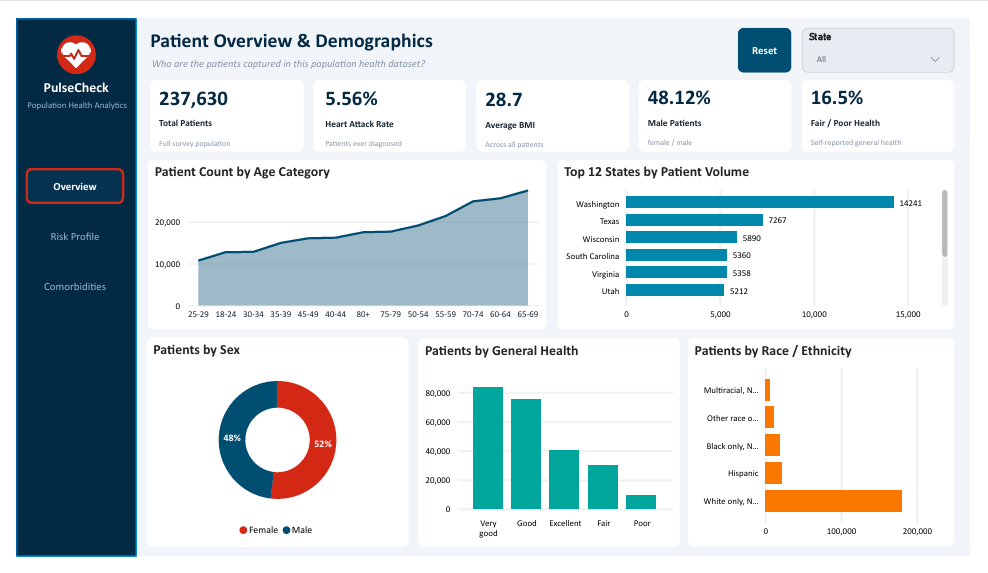

The dashboard page shown, as its layout file describes it:
{"tool":"powerbi","page":{"name":"Overview","canvas":[1280,720],"ordinal":0},"visuals":[{"type":"shape","box":[0,0,159.6,720],"z":0,"group":"g3"},{"type":"textbox","box":[174.2,7.7,843.3,43],"z":0},{"type":"group","id":"g1","title":"Group 1","box":[53.3,21.6,51.8,51.8],"z":0,"group":"g2"},{"type":"shape","box":[53.3,21.6,51.8,51.8],"z":0,"group":"g1"},{"type":"shape","box":[178.6,82.1,205.9,96.5],"z":0,"group":"g4"},{"type":"multiRowCard","fields":{"Values":["_Measures.Male_Patients"]},"box":[842.4,82.1,188.6,44.3],"z":0,"group":"g8"},{"type":"multiRowCard","fields":{"Values":["_Measures.Fair_Poor_Health"]},"box":[1061.3,82.1,188.6,44.3],"z":0,"group":"g9"},{"type":"multiRowCard","fields":{"Values":["_Measures.Total_Patients"]},"box":[185.8,82.9,188.6,44.3],"z":0,"group":"g5"},{"type":"multiRowCard","fields":{"Values":["_Measures.Heart_Attack_Rate"]},"box":[409,84.4,188.6,44.3],"z":0,"group":"g6"},{"type":"multiRowCard","fields":{"Values":["_Measures.Average_BMI"]},"box":[623.5,85,188.6,44.3],"z":0,"group":"g7"},{"type":"group","id":"g2","title":"Group 2","box":[11.5,21.6,135.4,86.4],"z":1000,"group":"g3"},{"type":"image","box":[59.1,28.8,38.9,38.9],"z":1000,"group":"g1"},{"type":"textbox","box":[175.8,44.7,844.9,28.6],"z":1000},{"type":"textbox","box":[11.5,74.9,135.4,33.1],"z":1000,"group":"g2"},{"type":"shape","box":[398.2,82.3,204.9,95.7],"z":1000,"group":"g10"},{"type":"textbox","box":[842.4,124.2,188.6,27.1],"z":1000,"group":"g8"},{"type":"textbox","box":[1061.3,124.2,188.6,27.1],"z":1000,"group":"g9"},{"type":"textbox","box":[185.8,125,188.6,27.1],"z":1000,"group":"g5"},{"type":"textbox","box":[409,126.5,188.6,27.1],"z":1000,"group":"g6"},{"type":"textbox","box":[623.5,127.1,188.6,27.1],"z":1000,"group":"g7"},{"type":"group","id":"g3","title":"Group 3","box":[0,0,159.6,720],"z":2000},{"type":"shape","box":[616.8,82.3,204.9,95.7],"z":2000,"group":"g11"},{"type":"textbox","box":[842.4,150,188.6,27.1],"z":2000,"group":"g8"},{"type":"textbox","box":[1061.3,150,188.6,27.1],"z":2000,"group":"g9"},{"type":"textbox","box":[185.8,150.8,188.6,27.1],"z":2000,"group":"g5"},{"type":"textbox","box":[409,152.3,188.6,27.1],"z":2000,"group":"g6"},{"type":"textbox","box":[623.5,152.9,188.6,27.1],"z":2000,"group":"g7"},{"type":"actionButton","box":[11.5,200.2,132.5,47.5],"z":2000,"group":"g3"},{"type":"shape","box":[835.4,82.3,204.9,95.7],"z":3000,"group":"g12"},{"type":"textbox","box":[9,100,148,27],"z":3000},{"type":"actionButton","box":[11.5,267.4,132.5,47.5],"z":3000,"group":"g3"},{"type":"slicer","title":"State","fields":{"Values":["Sheet1.State"]},"box":[1054.1,11.5,204.5,60.5],"z":4000},{"type":"shape","box":[1054.1,82.1,204.5,96.5],"z":4000,"group":"g13"},{"type":"actionButton","box":[11.5,334.6,132.5,47.5],"z":4000,"group":"g3"},{"type":"actionButton","box":[967.7,11.5,72,60.5],"z":5000},{"type":"lineChart","title":"Patient Count by Age Category","fields":{"Y":["CountNonNull(Sheet1.PatientID)"],"Category":["Sheet1.Age Group Formatted"]},"box":[175.7,189.4,535.7,226.1],"z":6000},{"type":"clusteredBarChart","title":"Top 12 States by Patient Volume","fields":{"Category":["Sheet1.State"],"Y":["CountNonNull(Sheet1.PatientID)"]},"box":[725.8,189.4,532.8,226.1],"z":7000},{"type":"donutChart","title":"Patients by Sex","fields":{"Category":["Sheet1.Sex"],"Y":["CountNonNull(Sheet1.PatientID)"]},"box":[174.2,427,352,280.8],"z":8000},{"type":"columnChart","title":"Patients by General Health","fields":{"Category":["Sheet1.GeneralHealth"],"Y":["CountNonNull(Sheet1.PatientID)"]},"box":[538.6,427.7,351.4,280.8],"z":9000},{"type":"clusteredBarChart","title":"Patients by Race / Ethnicity","fields":{"Category":["Sheet1.RaceEthnicityCategory"],"Y":["CountNonNull(Sheet1.PatientID)"]},"box":[901.4,427.7,357.1,279.4],"z":10000},{"type":"group","id":"g4","title":"Group 5","box":[178.6,82.1,205.9,96.5],"z":11000},{"type":"group","id":"g5","title":"Group 4","box":[185.8,82.9,188.6,95],"z":11003,"group":"g4"},{"type":"group","id":"g6","title":"Group 4","box":[409,84.4,188.6,95],"z":11004,"group":"g10"},{"type":"group","id":"g7","title":"Group 4","box":[623.5,85,188.6,95],"z":11005,"group":"g11"},{"type":"group","id":"g8","title":"Group 4","box":[842.4,82.1,188.6,95],"z":11006,"group":"g12"},{"type":"group","id":"g9","title":"Group 4","box":[1061.3,82.1,188.6,95],"z":11007,"group":"g13"},{"type":"group","id":"g10","title":"Group 6","box":[398.2,82.3,204.9,97.2],"z":12000},{"type":"group","id":"g11","title":"Group 7","box":[616.8,82.3,204.9,97.7],"z":13000},{"type":"group","id":"g12","title":"Group 8","box":[835.4,82.1,204.9,96],"z":14000},{"type":"group","id":"g13","title":"Group 9","box":[1054.1,82.1,204.5,96.5],"z":15000}]}

Visuals, with their boxes on the page's 1280x720 design canvas (x1, y1, x2, y2). These are canvas units, not pixel positions in the 988x573 screenshot, which may show the page scaled, cropped or inside an application window:
shape: detection(0, 0, 160, 720)
textbox: detection(174, 8, 1018, 51)
"Group 1" group: detection(53, 22, 105, 73)
shape: detection(53, 22, 105, 73)
shape: detection(179, 82, 384, 179)
multiRowCard - _Measures.Male_Patients: detection(842, 82, 1031, 126)
multiRowCard - _Measures.Fair_Poor_Health: detection(1061, 82, 1250, 126)
multiRowCard - _Measures.Total_Patients: detection(186, 83, 374, 127)
multiRowCard - _Measures.Heart_Attack_Rate: detection(409, 84, 598, 129)
multiRowCard - _Measures.Average_BMI: detection(624, 85, 812, 129)
"Group 2" group: detection(12, 22, 147, 108)
image: detection(59, 29, 98, 68)
textbox: detection(176, 45, 1021, 73)
textbox: detection(12, 75, 147, 108)
shape: detection(398, 82, 603, 178)
textbox: detection(842, 124, 1031, 151)
textbox: detection(1061, 124, 1250, 151)
textbox: detection(186, 125, 374, 152)
textbox: detection(409, 126, 598, 154)
textbox: detection(624, 127, 812, 154)
"Group 3" group: detection(0, 0, 160, 720)
shape: detection(617, 82, 822, 178)
textbox: detection(842, 150, 1031, 177)
textbox: detection(1061, 150, 1250, 177)
textbox: detection(186, 151, 374, 178)
textbox: detection(409, 152, 598, 179)
textbox: detection(624, 153, 812, 180)
actionButton: detection(12, 200, 144, 248)
shape: detection(835, 82, 1040, 178)
textbox: detection(9, 100, 157, 127)
actionButton: detection(12, 267, 144, 315)
"State" slicer: detection(1054, 12, 1259, 72)
shape: detection(1054, 82, 1259, 179)
actionButton: detection(12, 335, 144, 382)
actionButton: detection(968, 12, 1040, 72)
"Patient Count by Age Category" lineChart: detection(176, 189, 711, 416)
"Top 12 States by Patient Volume" clusteredBarChart: detection(726, 189, 1259, 416)
"Patients by Sex" donutChart: detection(174, 427, 526, 708)
"Patients by General Health" columnChart: detection(539, 428, 890, 708)
"Patients by Race / Ethnicity" clusteredBarChart: detection(901, 428, 1258, 707)
"Group 5" group: detection(179, 82, 384, 179)
"Group 4" group: detection(186, 83, 374, 178)
"Group 4" group: detection(409, 84, 598, 179)
"Group 4" group: detection(624, 85, 812, 180)
"Group 4" group: detection(842, 82, 1031, 177)
"Group 4" group: detection(1061, 82, 1250, 177)
"Group 6" group: detection(398, 82, 603, 180)
"Group 7" group: detection(617, 82, 822, 180)
"Group 8" group: detection(835, 82, 1040, 178)
"Group 9" group: detection(1054, 82, 1259, 179)
